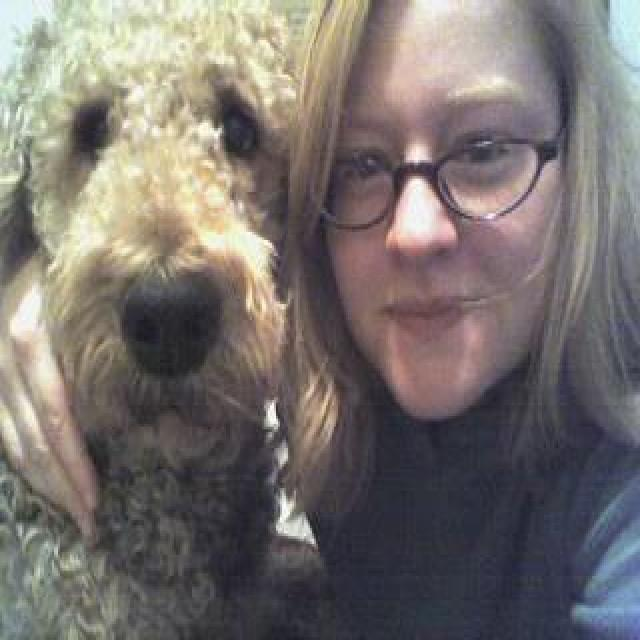airedale: (0, 0, 306, 637)
